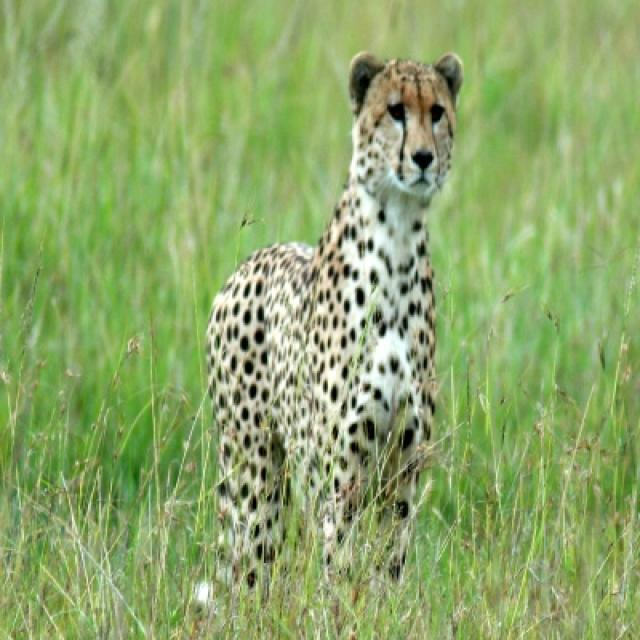Cheetah: (184, 37, 464, 638)
